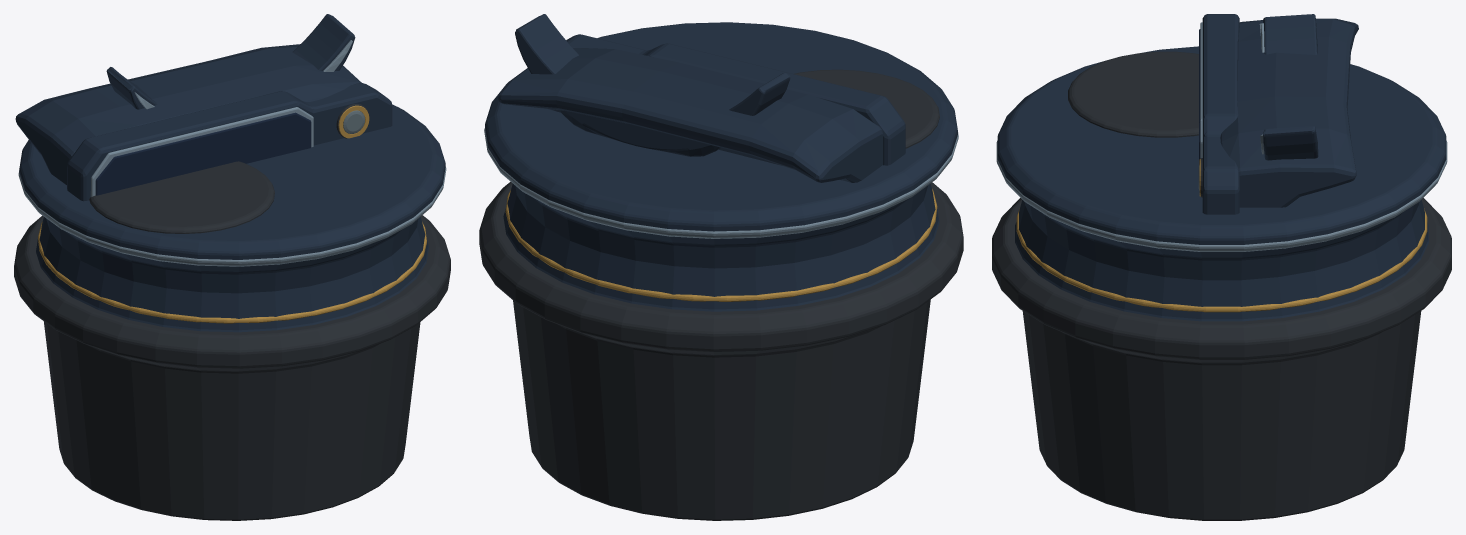
The model's file is x2_cash_stand_integrated.fbx.
3 renders of one model, left to right at view 1: azimuth 30°, elevation 25°; view 2: azimuth 150°, elevation 25°; view 3: azimuth 270°, elevation 25°, orthographic. The views are drawn at different scales.
Parts seen in each view (by area): view 1: StandIron.006, StandPaint.006, BadgeHousing.002, Cash_ProductFace.008, StandSteel.006, CoinCradle.002, StandBrass.006, BadgeSteel.006; view 2: StandIron.006, StandPaint.006, BadgeHousing.002, CoinCradle.002, StandSteel.006, StandBrass.006; view 3: StandIron.006, StandPaint.006, BadgeHousing.002, CoinCradle.002, StandSteel.006, StandBrass.006.
Part boxes in pixels (bbox=[...]): StandIron.006: bbox=[14, 161, 450, 520]; StandPaint.006: bbox=[19, 104, 445, 332]; BadgeHousing.002: bbox=[15, 44, 392, 201]; Cash_ProductFace.008: bbox=[95, 112, 311, 195]; StandSteel.006: bbox=[18, 167, 446, 266]; CoinCradle.002: bbox=[106, 14, 355, 109]; StandBrass.006: bbox=[38, 222, 426, 323]; BadgeSteel.006: bbox=[90, 107, 313, 196]; StandIron.006: bbox=[479, 69, 963, 520]; StandPaint.006: bbox=[485, 22, 957, 311]; BadgeHousing.002: bbox=[498, 34, 905, 182]; CoinCradle.002: bbox=[515, 14, 790, 156]; StandSteel.006: bbox=[484, 128, 958, 238]; StandBrass.006: bbox=[505, 189, 937, 301]; StandIron.006: bbox=[992, 51, 1451, 520]; StandPaint.006: bbox=[997, 46, 1446, 321]; BadgeHousing.002: bbox=[1202, 14, 1358, 214]; CoinCradle.002: bbox=[1263, 14, 1318, 160]; StandSteel.006: bbox=[996, 140, 1447, 251]; StandBrass.006: bbox=[1016, 208, 1427, 312].
Bounding box in the file's own units: 2.49 × 2.33 × 2.49.
